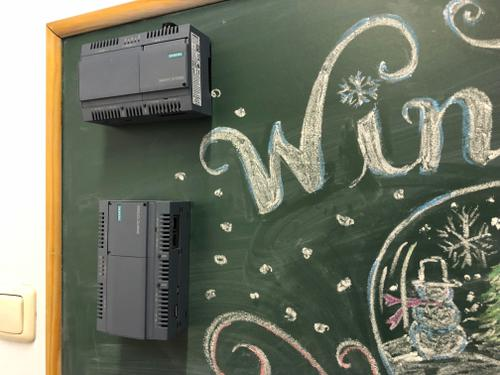device: (78, 22, 213, 127), (97, 201, 191, 341)
